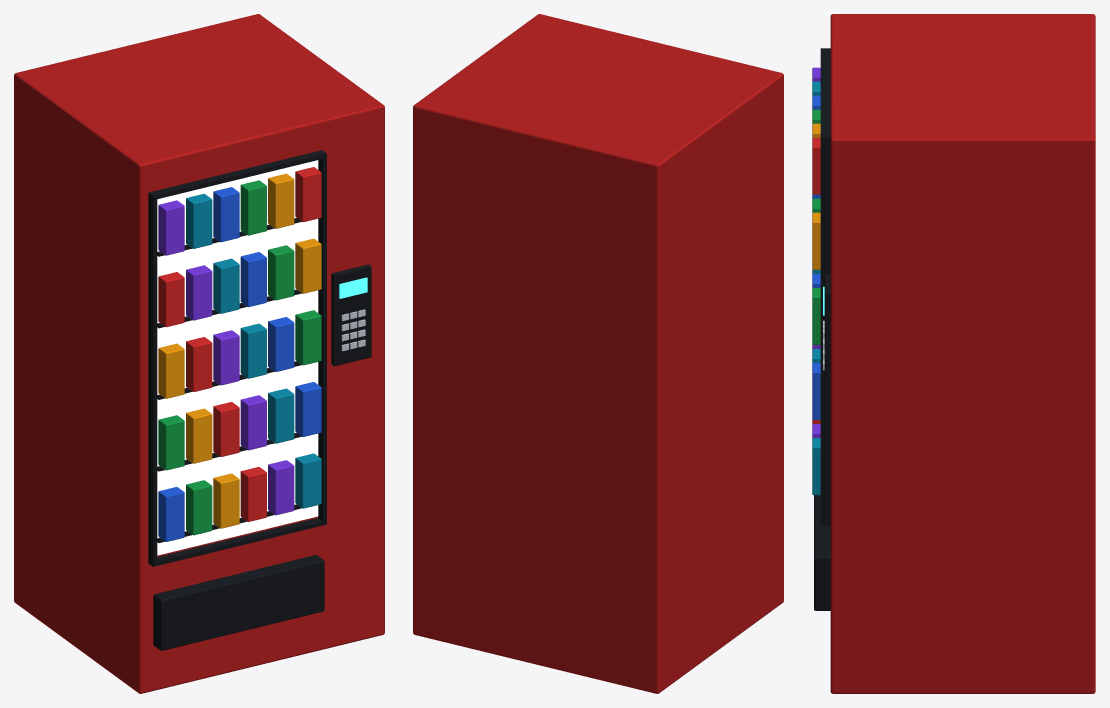
Rendered from vending.glb.
The picture shows the model from 3 angles, left to right: view 1: azimuth 30°, elevation 25°; view 2: azimuth 150°, elevation 25°; view 3: azimuth 270°, elevation 25°; orthographic projection. The views are drawn at different scales.
Parts seen in each view (by area): view 1: vending; view 2: vending; view 3: vending.
Boxes of the visible parts, x1,y1,x2,y2 form: vending: (14, 14, 384, 693); vending: (413, 14, 783, 693); vending: (812, 14, 1095, 693).
Bounding box in the file's own units: 0.9 × 1.85 × 0.855.
